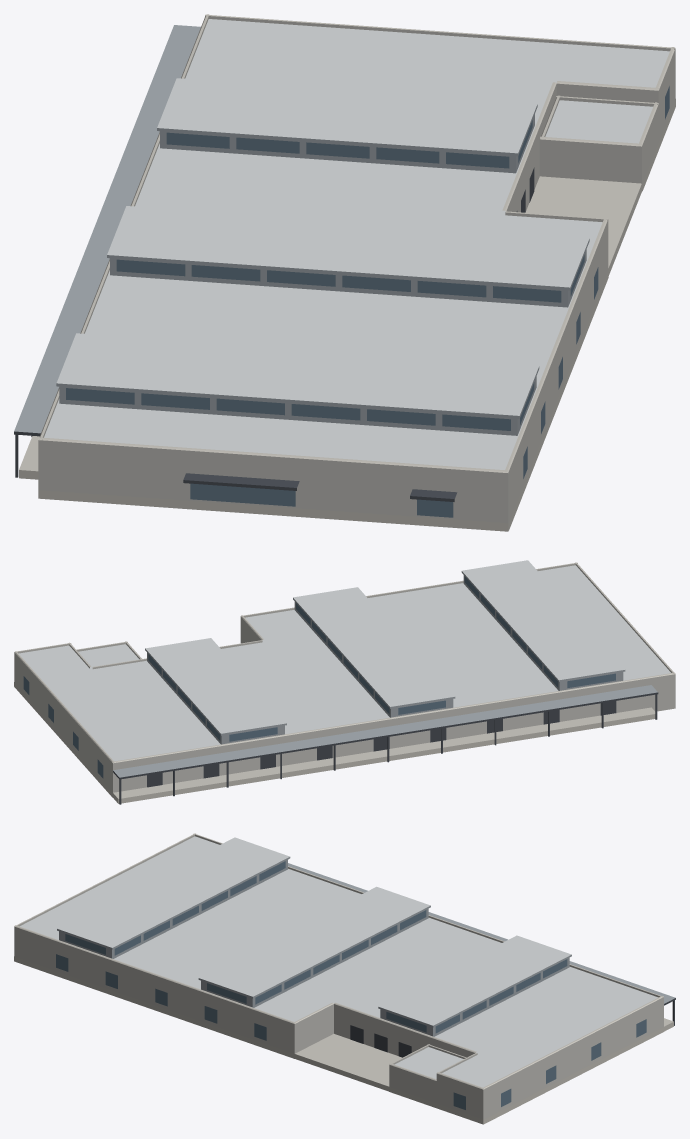
The model's file is detail.glb.
3 views of the same model, one above another, from view 1: azimuth 30°, elevation 25°; view 2: azimuth 150°, elevation 25°; view 3: azimuth 270°, elevation 25° (orthographic). The views are drawn at different scales.
Parts seen in each view (by area): view 1: 1701-n-graham-street; view 2: 1701-n-graham-street; view 3: 1701-n-graham-street.
Boxes of the visible parts, x1,y1,x2,y2 form: 1701-n-graham-street: [14, 14, 675, 531]; 1701-n-graham-street: [14, 560, 675, 804]; 1701-n-graham-street: [14, 833, 675, 1124].
Size of the model in its own units: 121 by 10.2 by 132.
